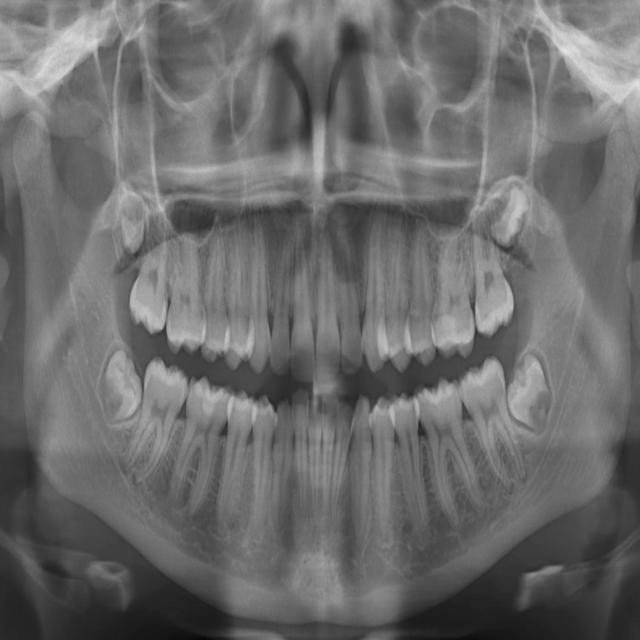3M ESPE Implant: (114, 192, 140, 258)
AGS Medikal Implant: (496, 433, 497, 434)
AMerOss Implant: (409, 371, 492, 531)
Amalgam filling: (125, 194, 174, 341)
Anthogyr Implant: (389, 386, 437, 554)
Bicon Implant: (370, 391, 402, 549)
BioHorizons Implant: (342, 390, 376, 559)
BioLife Implant: (330, 396, 352, 525)
Biomet 3i Implant: (316, 390, 337, 536)
Blue Sky Bio Implant: (306, 392, 321, 533)
Camlog Implant: (292, 389, 308, 544)
Caries: (333, 201, 364, 379)
Composite filling: (267, 394, 295, 547)
Cowellmedi Implant: (241, 389, 277, 557)
Crown: (208, 382, 258, 544)
DENTSPLY Implant: (163, 219, 209, 361)
Dentatus Implant: (195, 456, 196, 457)
Dentis Implant: (149, 441, 150, 442)
Dentium Implant: (98, 340, 143, 427)
Euroteknika Implant: (197, 195, 237, 367)
Filling: (218, 190, 257, 375)
Frontier Implant: (245, 179, 270, 377)
Hiossen Implant: (384, 216, 384, 217)
Implant: (289, 199, 314, 390)
Implant Direct: (269, 211, 295, 380)
Keystone Dental Implant: (315, 201, 339, 386)
MIS Implant: (375, 191, 415, 380)
Mandible: (402, 200, 439, 370)
Maxilla: (429, 221, 477, 363)
Megagen Implant: (465, 190, 520, 340)
Neodent Implant: (488, 173, 535, 252)
Neoss Implant: (496, 344, 563, 441)
